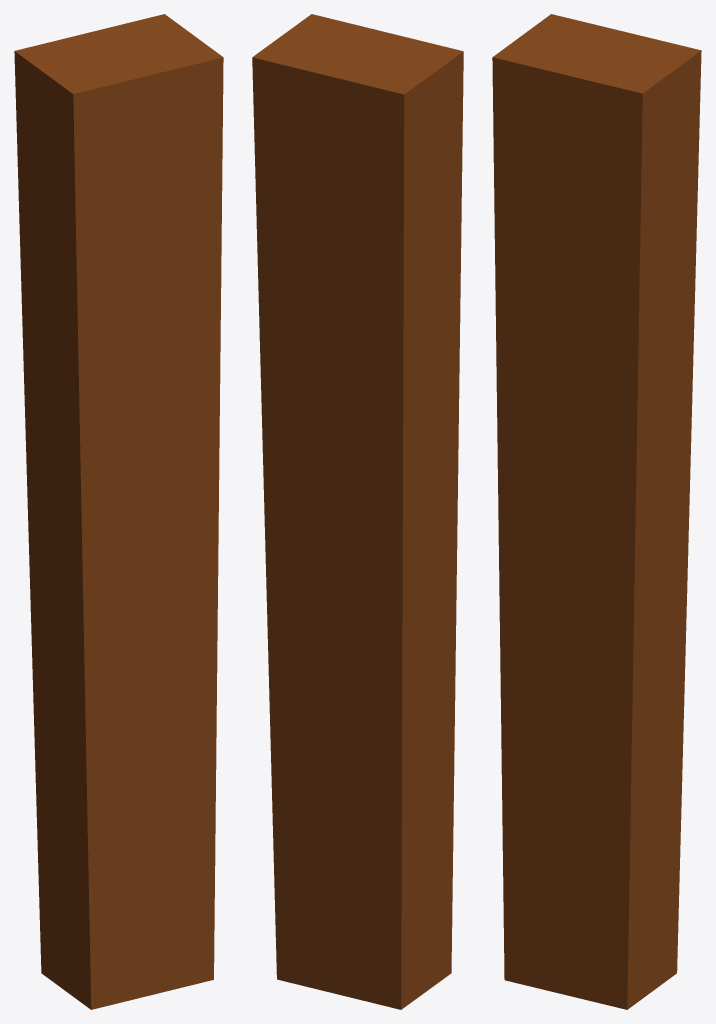
Rendered from FenceStick.fbx.
3 views of the same model, side by side, from view 1: azimuth 30°, elevation 25°; view 2: azimuth 150°, elevation 25°; view 3: azimuth 330°, elevation 25° (orthographic).
Parts seen in each view (by area): view 1: FenceStick; view 2: FenceStick; view 3: FenceStick.
Boxes of the visible parts, <box> form: FenceStick: <box>14,14,223,1009</box>; FenceStick: <box>252,14,463,1009</box>; FenceStick: <box>492,14,701,1009</box>.
Size of the model in its own units: 0.1586 by 0.9255 by 0.113.
